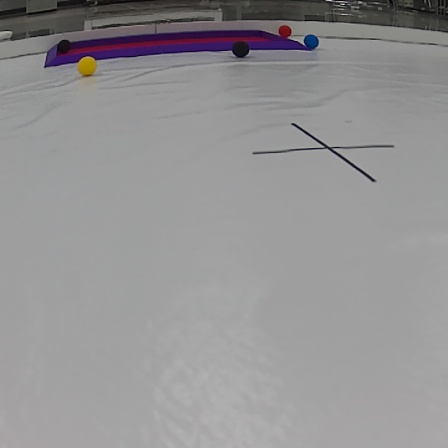black: (228, 36, 253, 59), (56, 33, 76, 53)
blue: (304, 32, 321, 51)
red: (276, 23, 294, 38)
red_aim: (44, 29, 310, 60)
yellow: (75, 54, 101, 78)
